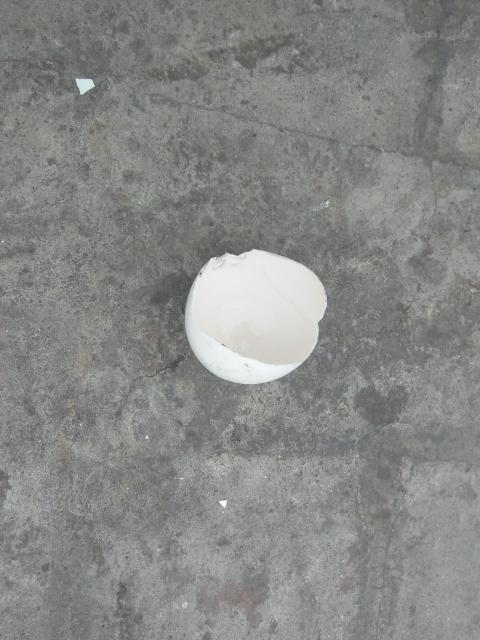Roto: (184, 248, 328, 385)
